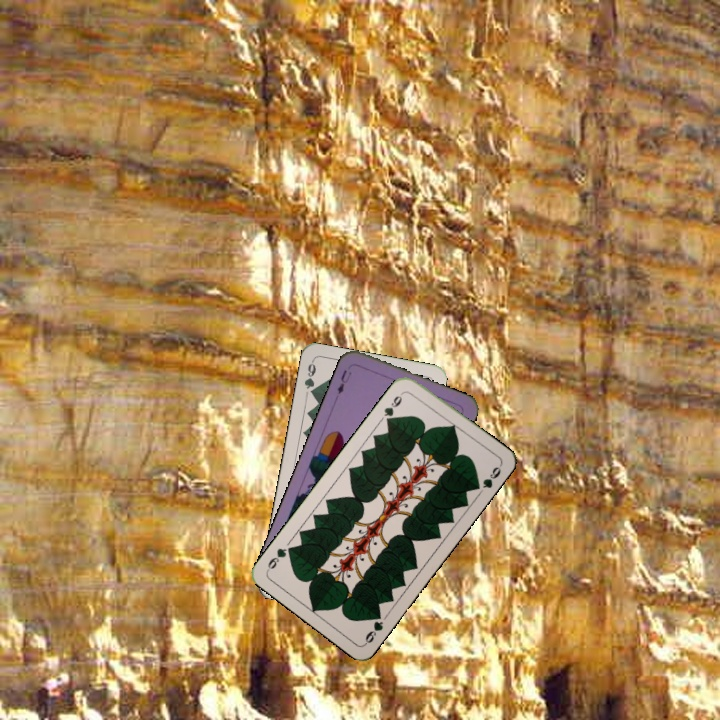EU: (333, 366, 354, 397)
G9: (380, 388, 407, 426), (361, 607, 386, 647), (300, 357, 318, 399)
